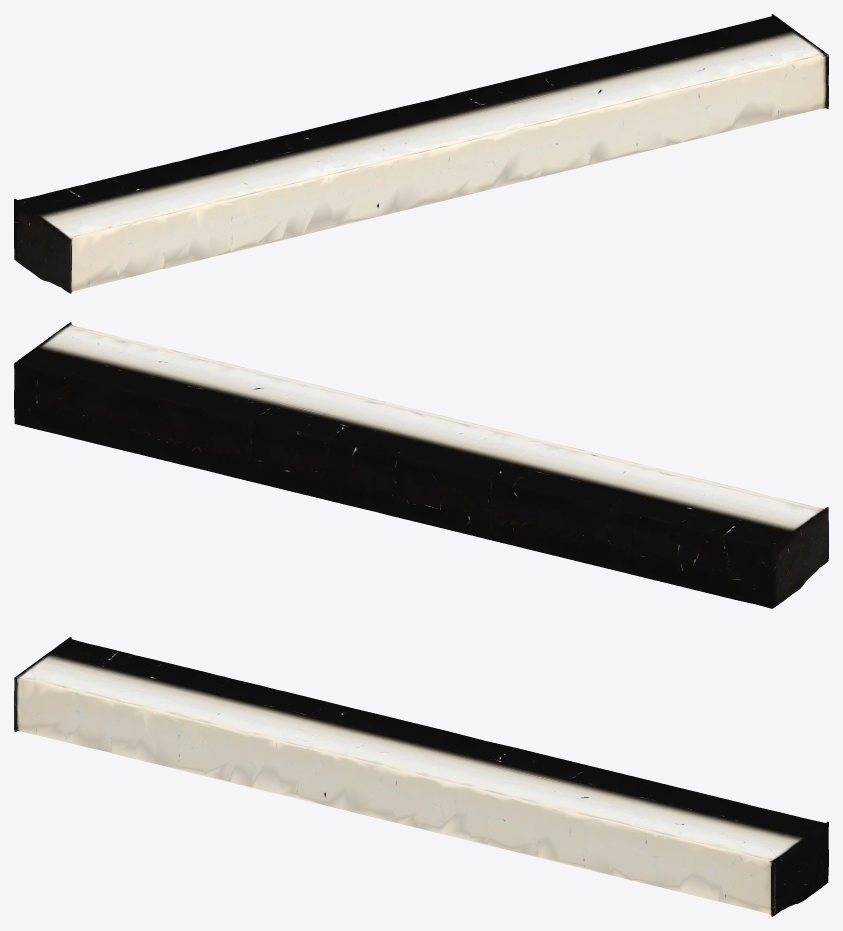
Rendered from gallery-lamp.glb.
3 views of the same model, one above another, from view 1: azimuth 30°, elevation 25°; view 2: azimuth 150°, elevation 25°; view 3: azimuth 330°, elevation 25° (orthographic).
Size of the model in its own units: 1.9 by 0.154 by 0.2444.
1 material, 1 textured.
